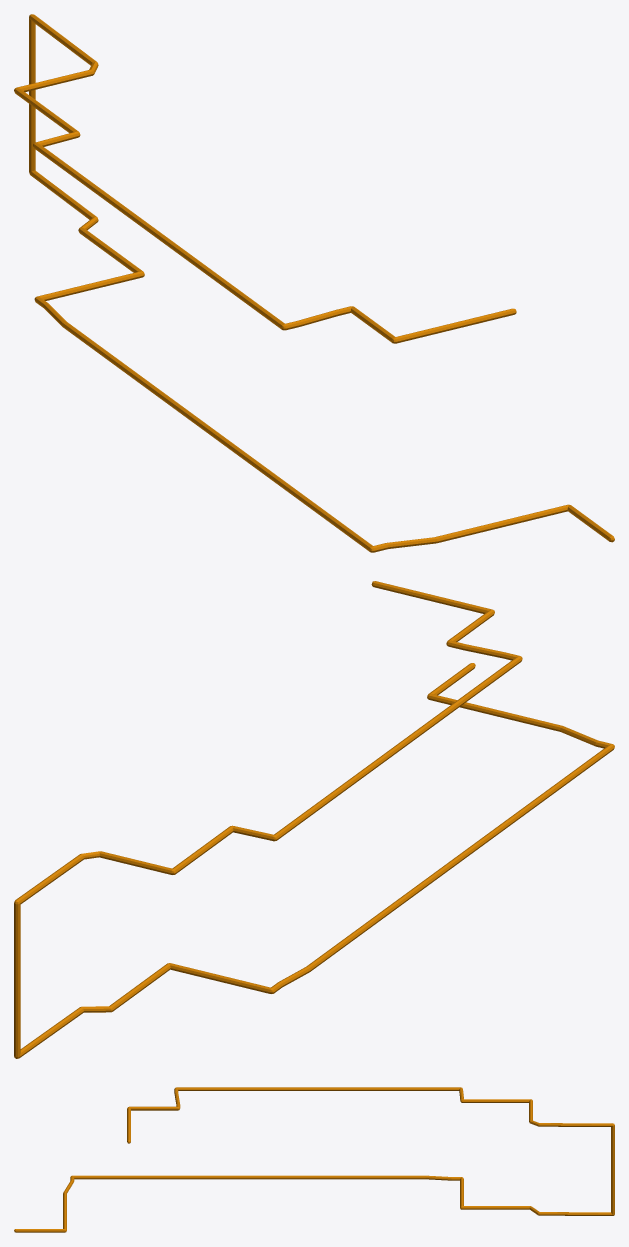
3 renders of one model, top to bottom at view 1: azimuth 30°, elevation 25°; view 2: azimuth 150°, elevation 25°; view 3: azimuth 270°, elevation 25°, orthographic. The views are drawn at different scales.
Bounding box in the file's own units: 663 × 520 × 3061.
